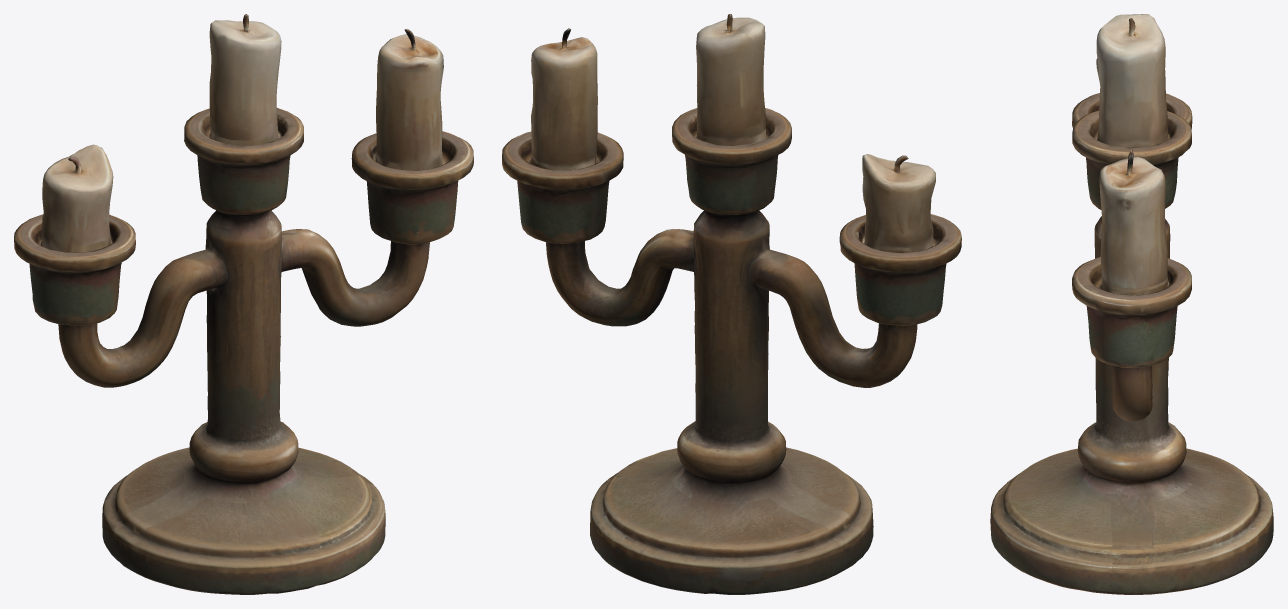
The model's file is Prop_Candelabra.fbx.
3 views of the same model, side by side, from view 1: azimuth 30°, elevation 25°; view 2: azimuth 150°, elevation 25°; view 3: azimuth 270°, elevation 25° (orthographic).
Visible parts, largest first — view 1: texture_mapping; view 2: texture_mapping; view 3: texture_mapping.
Boxes of the visible parts, left/top/right/bottom form: texture_mapping: left=14, top=14, right=473, bottom=594; texture_mapping: left=502, top=14, right=961, bottom=594; texture_mapping: left=990, top=14, right=1273, bottom=594.
Bounding box in the file's own units: 0.889 × 0.4937 × 1.
Materials: 1 (1 with a texture image).
